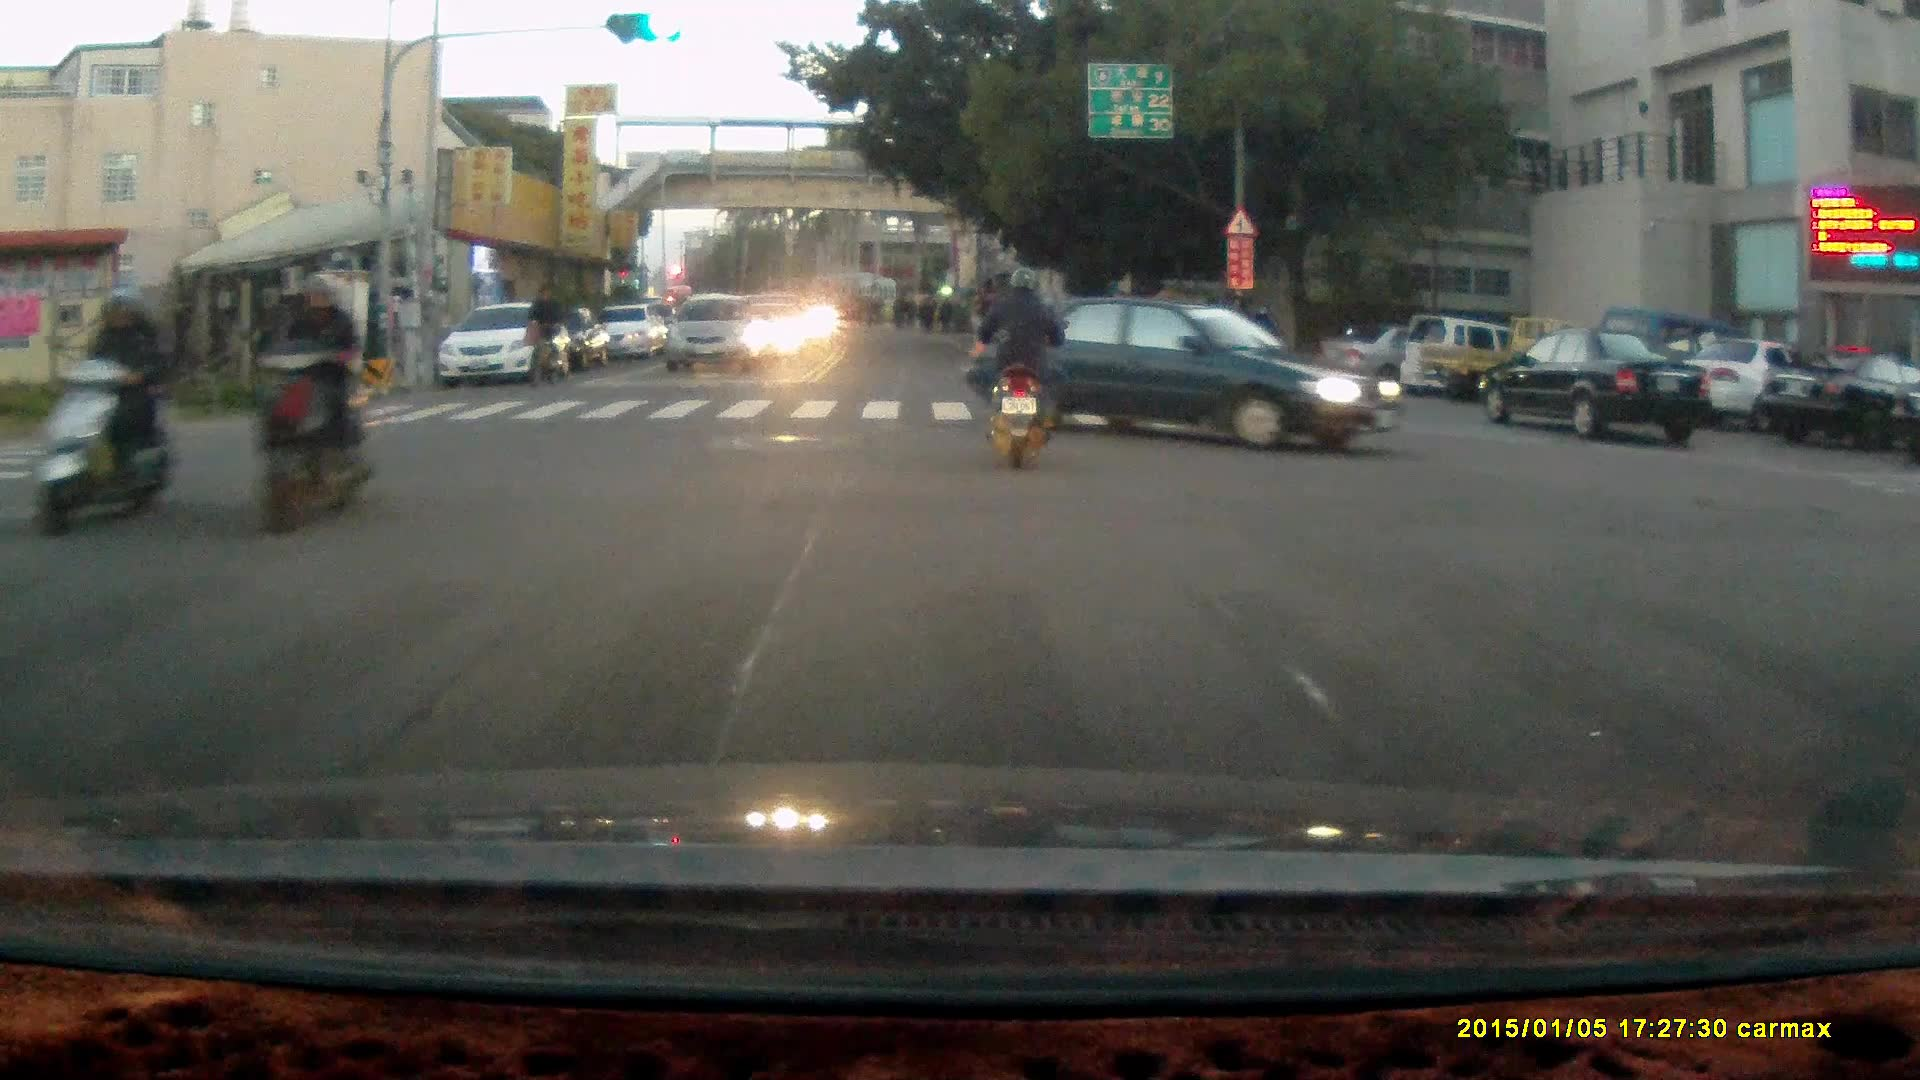rider: (33, 279, 179, 538), (245, 265, 379, 541), (974, 266, 1067, 468), (522, 280, 563, 383)
vehicle: (952, 289, 1400, 457), (1479, 331, 1713, 443), (1410, 314, 1628, 406), (1664, 335, 1853, 437), (1761, 352, 1920, 453), (437, 293, 573, 381), (664, 294, 767, 375)
